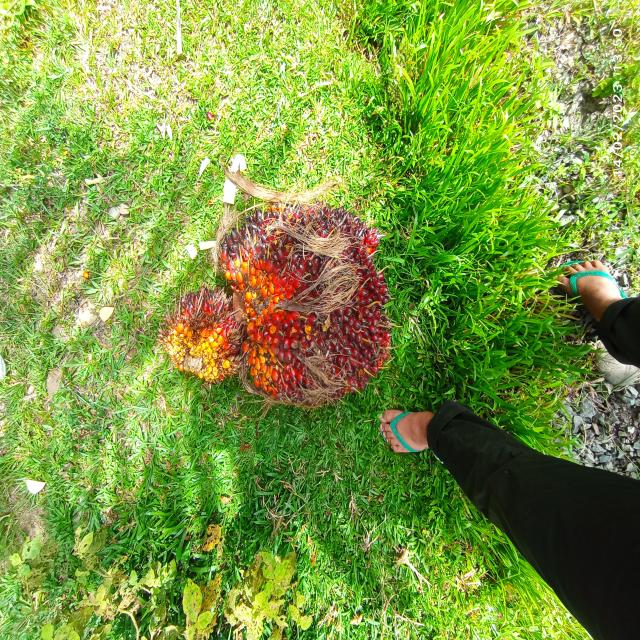fraksi 1: (165, 267, 240, 394)
fraksi 3: (206, 168, 408, 414)
